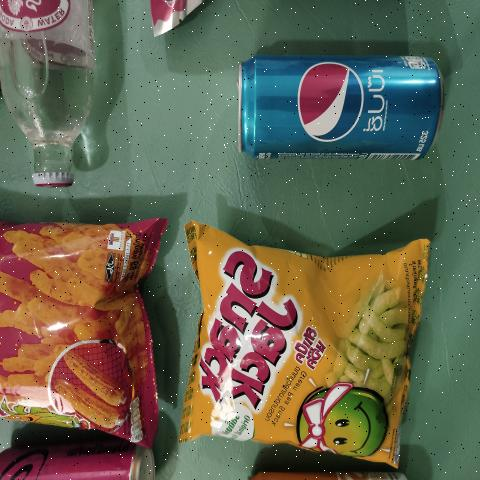pepsi_blue: (235, 42, 452, 162)
snack_jack: (192, 246, 413, 435)
